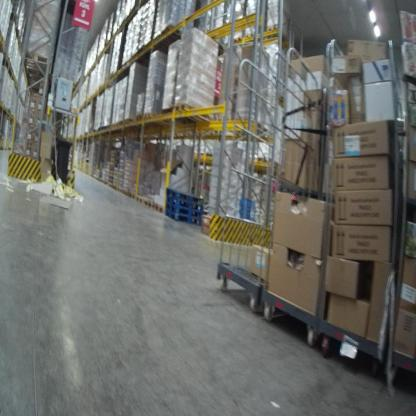pallet: (23, 21, 180, 72), (172, 101, 217, 130), (166, 187, 207, 207), (166, 193, 204, 212), (164, 208, 202, 225), (166, 203, 202, 220), (267, 24, 289, 46), (231, 34, 243, 50), (145, 197, 155, 209), (155, 203, 164, 216), (242, 31, 255, 40), (136, 195, 145, 205)
